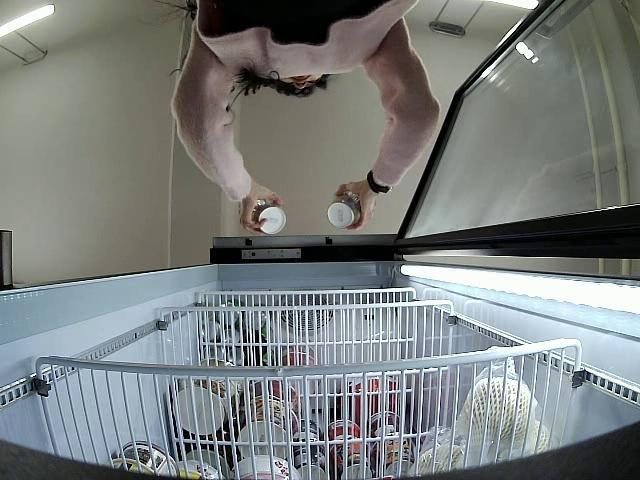04_chapagetti_S: (242, 202, 287, 234), (326, 190, 363, 228)
